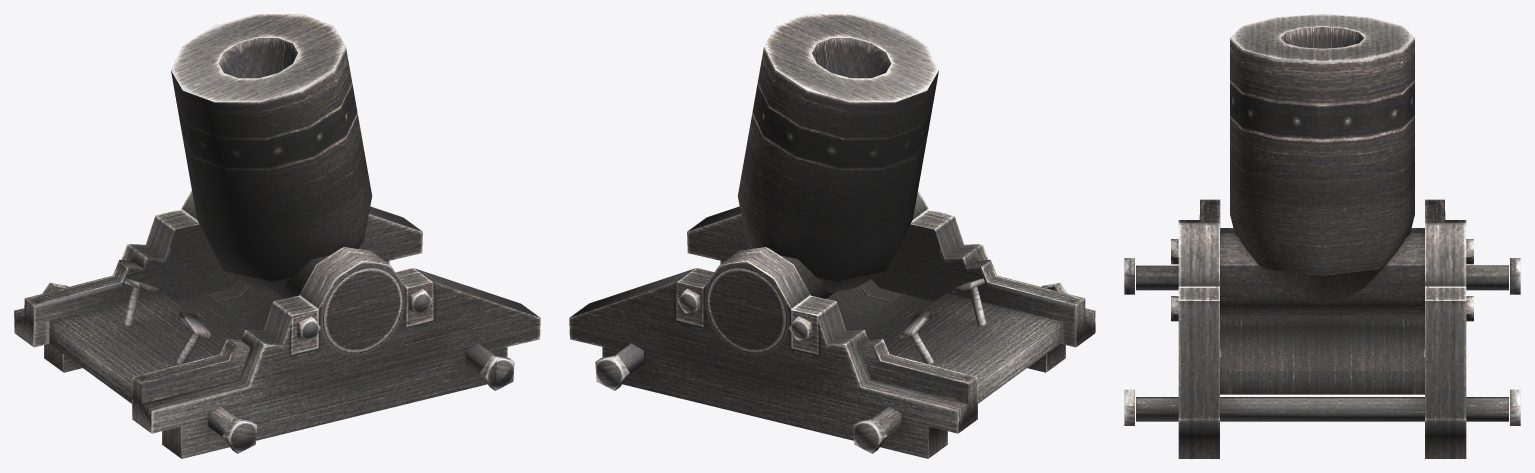
Rendered from pump6.glb.
3 views of the same model, side by side, from view 1: azimuth 30°, elevation 25°; view 2: azimuth 150°, elevation 25°; view 3: azimuth 270°, elevation 25° (orthographic). The views are drawn at different scales.
Parts seen in each view (by area): view 1: pump6; view 2: pump6; view 3: pump6.
Part boxes in pixels (x1,y1,x2,y2): pump6: [14, 14, 540, 458]; pump6: [569, 14, 1095, 458]; pump6: [1124, 14, 1520, 458].
Bounding box in the file's own units: 1.28 × 1.03 × 1.08.
Materials: 1 (1 with a texture image).
